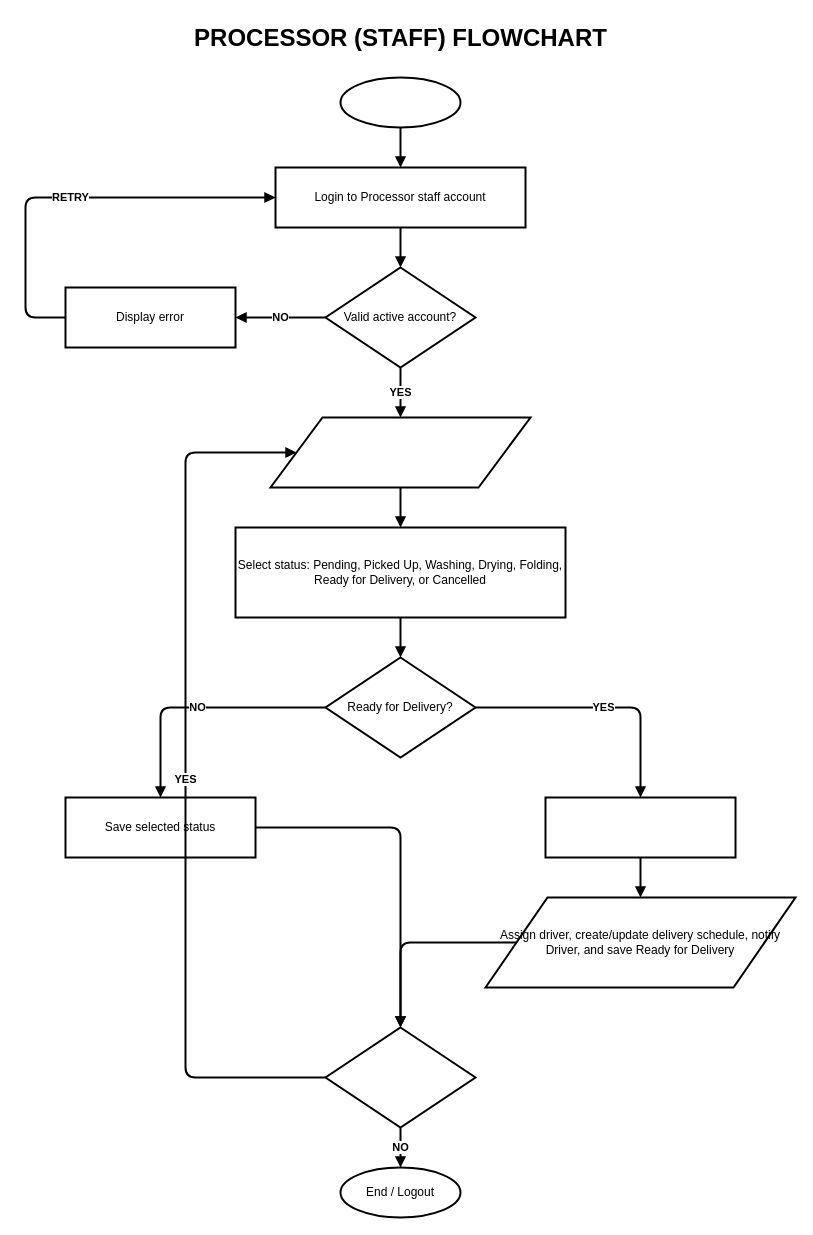
Some shapes in this 813 by 1235 pixel diagram are drawn without their labels. Here are the shapes that lost their labels. From the top down, the box of each, then its label:
(339, 76, 461, 128): Start
(269, 416, 531, 488): View bookings assigned by admin
(544, 796, 736, 858): Select active Driver
(324, 1026, 476, 1128): Update another assigned booking?
